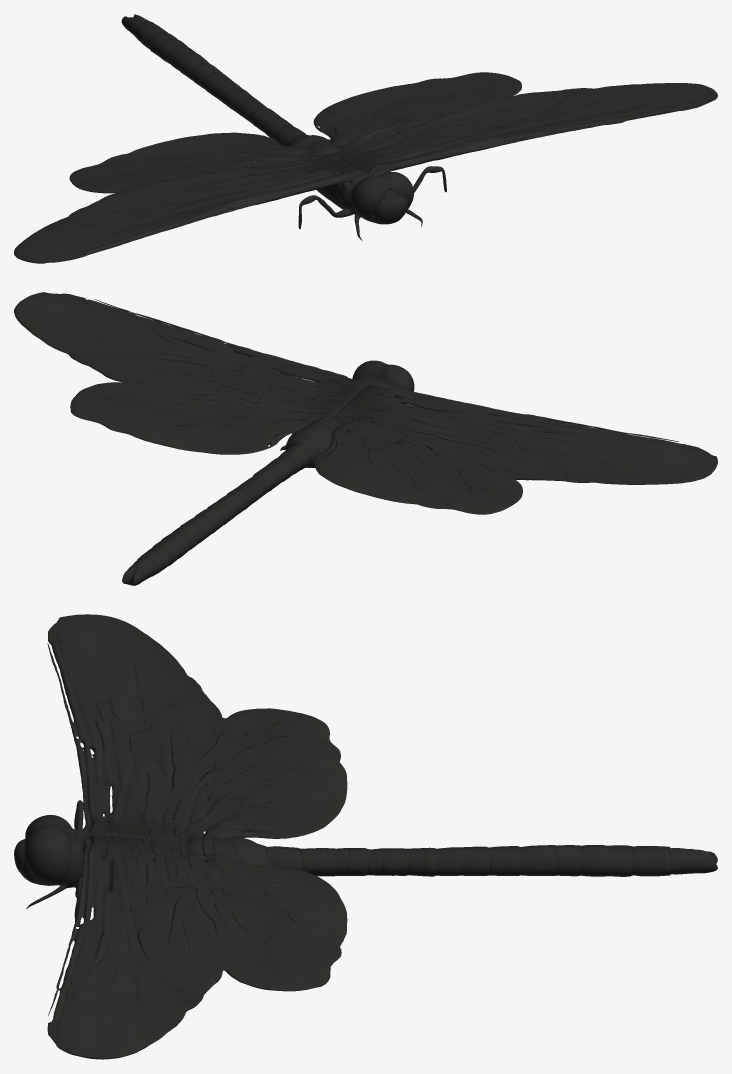
Rendered from DragonFly.glb.
3 renders of one model, top to bottom at view 1: azimuth 30°, elevation 25°; view 2: azimuth 150°, elevation 25°; view 3: azimuth 270°, elevation 25°, orthographic. The views are drawn at different scales.
Parts seen in each view (by area): view 1: model; view 2: model; view 3: model.
Part boxes in pixels (box(x1,y1,x2,y2)): model: box(14, 14, 717, 263); model: box(14, 292, 717, 585); model: box(14, 614, 717, 1059).
Bounding box in the file's own units: 1.9 × 0.135 × 1.27.
1 material, 1 textured.
